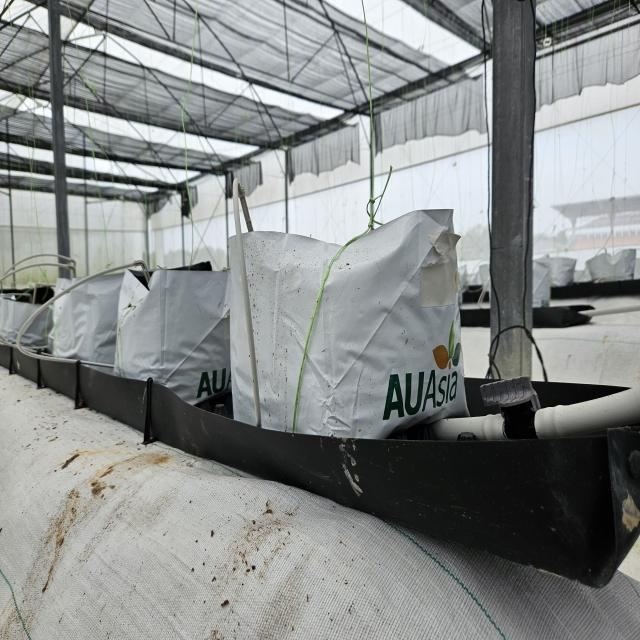Soilbag: (222, 210, 468, 440), (110, 270, 232, 415)
